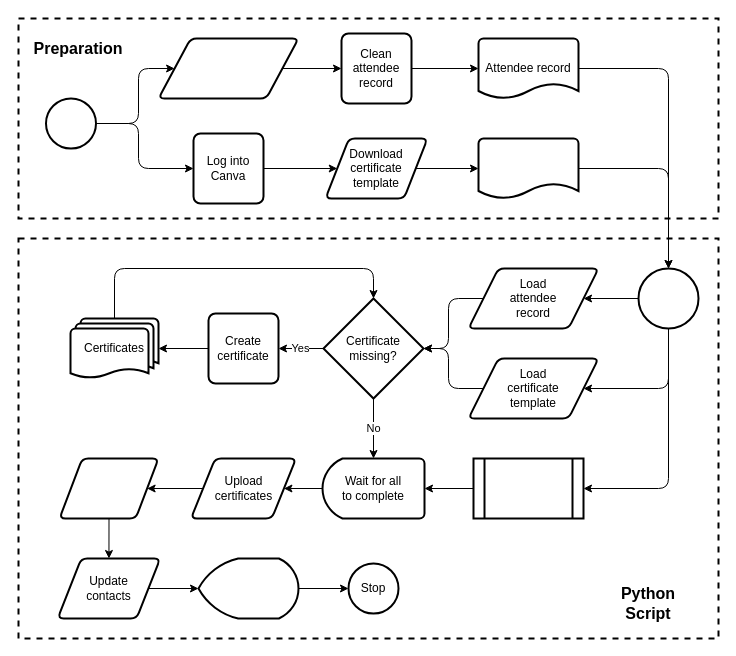
Some shapes in this 736 by 656 pixel diagram are drawn without their labels. The box of each missing label's shape, as (x1, y1, x2, y2) in pixels:
Certificate template: (477, 137, 579, 199)
Get attendee record from Events team: (157, 37, 299, 99)
Get MailChimp authorisation: (472, 457, 584, 519)
Output results: (197, 557, 299, 619)
Run script: (637, 267, 699, 329)
Start: (44, 97, 96, 149)
Update attendee record: (58, 457, 159, 519)
